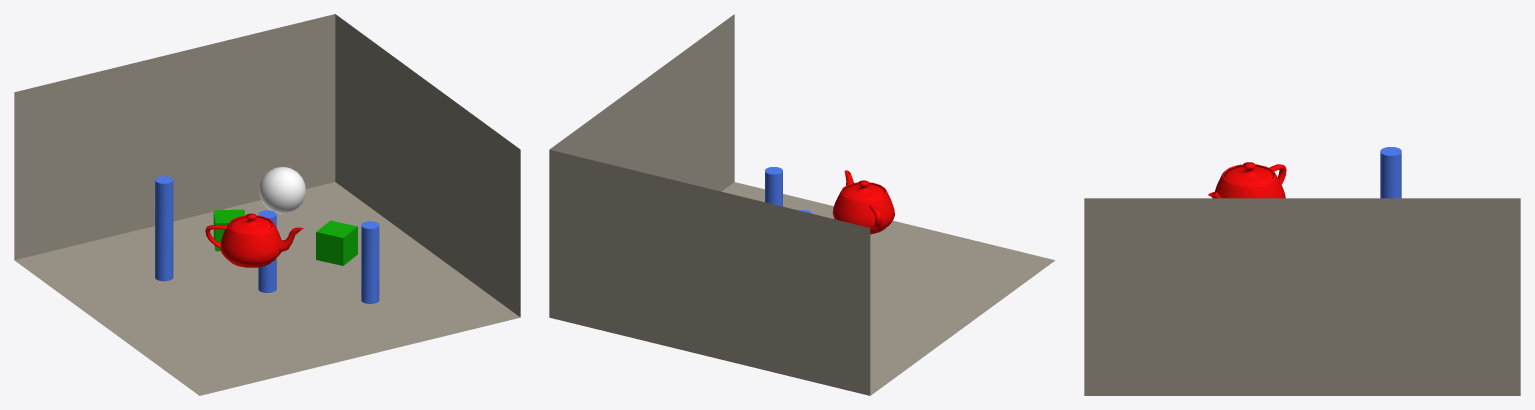
Rendered from samplescene.dae.
The picture shows the model from 3 angles, left to right: view 1: azimuth 30°, elevation 25°; view 2: azimuth 150°, elevation 25°; view 3: azimuth 270°, elevation 25°; orthographic projection. The views are drawn at different scales.
Parts seen in each view (by area): view 1: Plane02, Plane01, Plane03, Teapot01, Cylinder01, Sphere01, Box03, Cylinder03, Cylinder02, Box02; view 2: Plane02, Plane01, Plane03, Teapot01, Cylinder03; view 3: Plane03, Teapot01, Cylinder01.
Part boxes in pixels (x1,y1,x2,y2): Plane02: [14, 14, 335, 260]; Plane01: [15, 182, 519, 395]; Plane03: [335, 14, 520, 317]; Teapot01: [205, 213, 303, 267]; Cylinder01: [155, 176, 173, 281]; Sphere01: [259, 167, 305, 213]; Box03: [316, 220, 357, 265]; Cylinder03: [361, 221, 379, 303]; Cylinder02: [258, 210, 276, 292]; Box02: [213, 209, 245, 251]; Plane02: [549, 149, 870, 395]; Plane01: [722, 182, 1054, 395]; Plane03: [550, 14, 734, 191]; Teapot01: [832, 170, 894, 234]; Cylinder03: [765, 167, 782, 206]; Plane03: [1084, 198, 1520, 395]; Teapot01: [1208, 162, 1286, 198]; Cylinder01: [1380, 147, 1401, 198].
Size of the model in its own units: 60 by 30 by 60.
